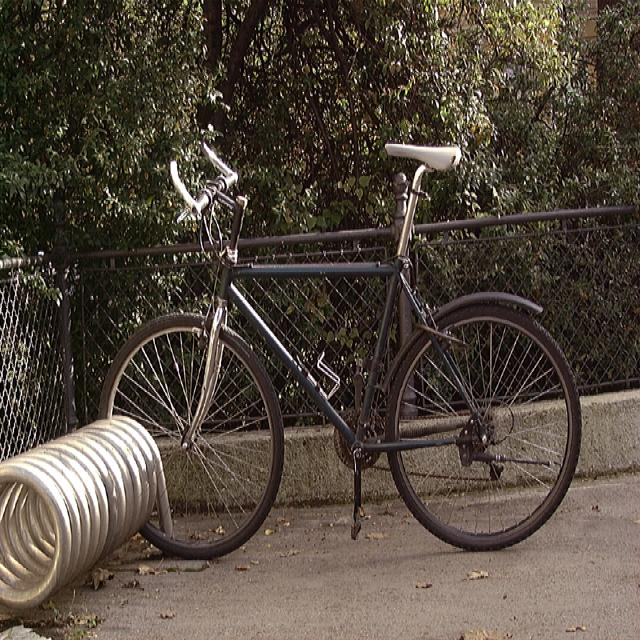bicycle: (97, 138, 582, 558)
